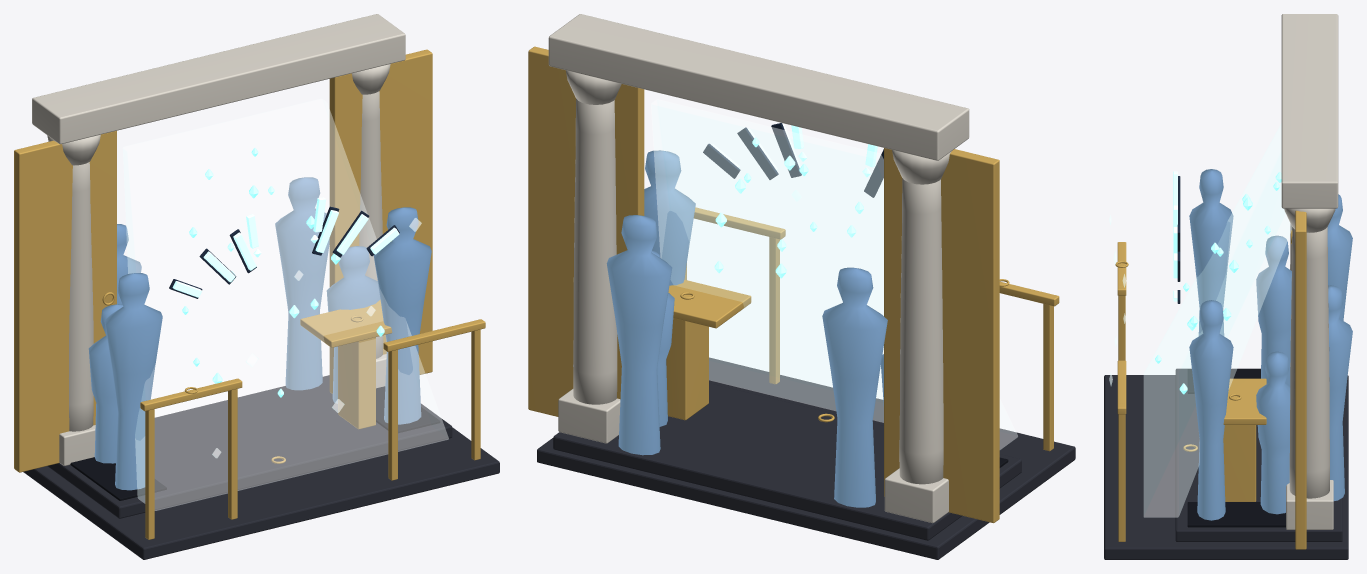
File: webtoon-zdepth-awakening-boom-moonlight-8500k-v23.glb
The picture shows the model from 3 angles, left to right: view 1: azimuth 30°, elevation 25°; view 2: azimuth 150°, elevation 25°; view 3: azimuth 270°, elevation 25°; orthographic projection. The views are drawn at different scales.
Parts seen in each view (by area): view 1: Volumetric_V23Beat3_8500K_GodRaySlit, Articulated_V23Beat3_8500K_DoorsAndIkRig, V23Beat3_8500K_DatumDeck, V23Beat3_8500K_PortalColonnade, DatumCrowd_V23Beat3_8500K_Silhouettes, ZDepthSFX_V23Beat3_8500K_GlyphCore, ShadowDrift_V23Beat3_8500K_UmbraMask, ZDepthSFX_V23Beat3_8500K_ShadowPlate, Atmospheric_V23Beat3_8500K_MidMotes; view 2: Articulated_V23Beat3_8500K_DoorsAndIkRig, V23Beat3_8500K_PortalColonnade, Volumetric_V23Beat3_8500K_GodRaySlit, V23Beat3_8500K_DatumDeck, DatumCrowd_V23Beat3_8500K_Silhouettes, ZDepthSFX_V23Beat3_8500K_ShadowPlate, Atmospheric_V23Beat3_8500K_MidMotes, ZDepthSFX_V23Beat3_8500K_GlyphCore; view 3: DatumCrowd_V23Beat3_8500K_Silhouettes, V23Beat3_8500K_DatumDeck, V23Beat3_8500K_PortalColonnade, Volumetric_V23Beat3_8500K_GodRaySlit, Articulated_V23Beat3_8500K_DoorsAndIkRig, ShadowDrift_V23Beat3_8500K_UmbraMask, Atmospheric_V23Beat3_8500K_MidMotes, ZDepthSFX_V23Beat3_8500K_GlyphCore, ZDepthSFX_V23Beat3_8500K_ShadowPlate.
Boxes of the visible parts, x1,y1,x2,y2 form: Volumetric_V23Beat3_8500K_GodRaySlit: (123, 99, 448, 510); Articulated_V23Beat3_8500K_DoorsAndIkRig: (14, 49, 485, 539); V23Beat3_8500K_DatumDeck: (23, 375, 499, 559); V23Beat3_8500K_PortalColonnade: (32, 14, 405, 465); DatumCrowd_V23Beat3_8500K_Silhouettes: (88, 177, 431, 490); ZDepthSFX_V23Beat3_8500K_GlyphCore: (172, 197, 399, 297); ShadowDrift_V23Beat3_8500K_UmbraMask: (70, 386, 440, 500); ZDepthSFX_V23Beat3_8500K_ShadowPlate: (169, 206, 399, 298); Atmospheric_V23Beat3_8500K_MidMotes: (182, 148, 384, 397); Articulated_V23Beat3_8500K_DoorsAndIkRig: (528, 46, 1059, 523); V23Beat3_8500K_PortalColonnade: (548, 14, 969, 523); Volumetric_V23Beat3_8500K_GodRaySlit: (651, 99, 1017, 449); V23Beat3_8500K_DatumDeck: (537, 357, 1075, 559); DatumCrowd_V23Beat3_8500K_Silhouettes: (606, 150, 887, 507); ZDepthSFX_V23Beat3_8500K_ShadowPlate: (703, 123, 883, 197); Atmospheric_V23Beat3_8500K_MidMotes: (714, 137, 863, 278); ZDepthSFX_V23Beat3_8500K_GlyphCore: (711, 124, 877, 176); DatumCrowd_V23Beat3_8500K_Silhouettes: (1189, 169, 1352, 520); V23Beat3_8500K_DatumDeck: (1104, 368, 1348, 559); V23Beat3_8500K_PortalColonnade: (1281, 14, 1338, 529); Volumetric_V23Beat3_8500K_GodRaySlit: (1144, 123, 1291, 517); Articulated_V23Beat3_8500K_DoorsAndIkRig: (1115, 210, 1306, 549); ShadowDrift_V23Beat3_8500K_UmbraMask: (1187, 369, 1285, 527); Atmospheric_V23Beat3_8500K_MidMotes: (1155, 172, 1281, 394); ZDepthSFX_V23Beat3_8500K_GlyphCore: (1173, 171, 1177, 301); ZDepthSFX_V23Beat3_8500K_ShadowPlate: (1177, 176, 1180, 303).
Size of the model in its own units: 3.2 by 2.78 by 1.67.
